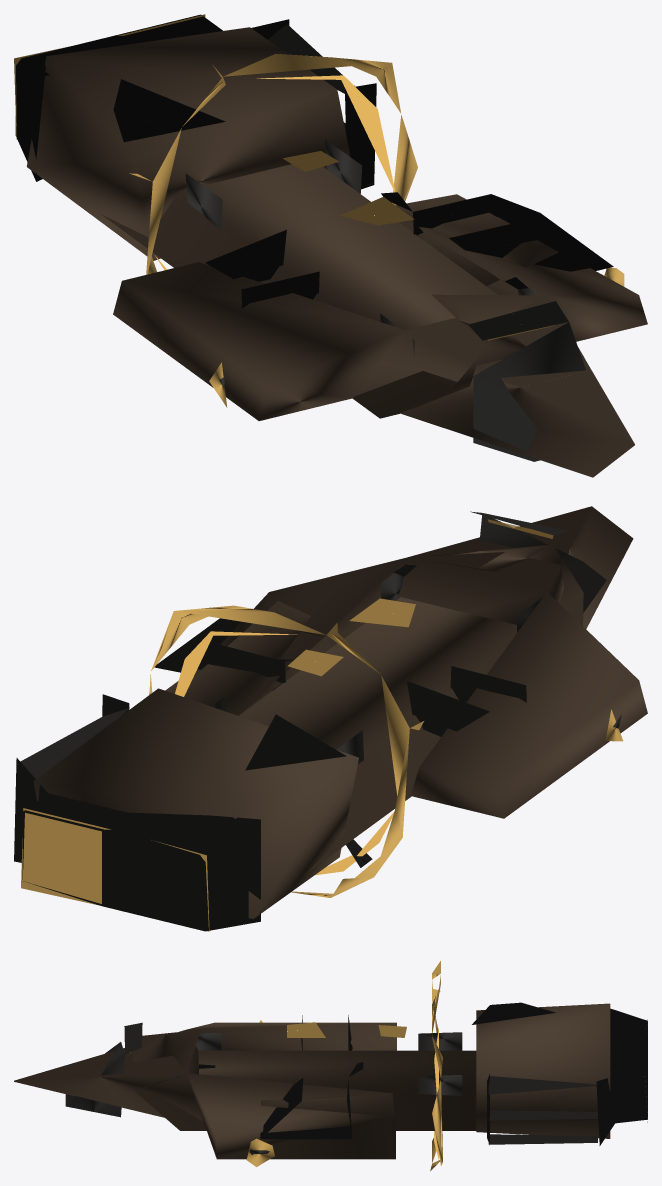
The model's file is goniec-wybudzeni-trade-11-lod2.glb.
The picture shows the model from 3 angles, top to bottom: view 1: azimuth 30°, elevation 25°; view 2: azimuth 150°, elevation 25°; view 3: azimuth 270°, elevation 25°; orthographic projection. The views are drawn at different scales.
Size of the model in its own units: 6.49 by 4.56 by 14.24.
